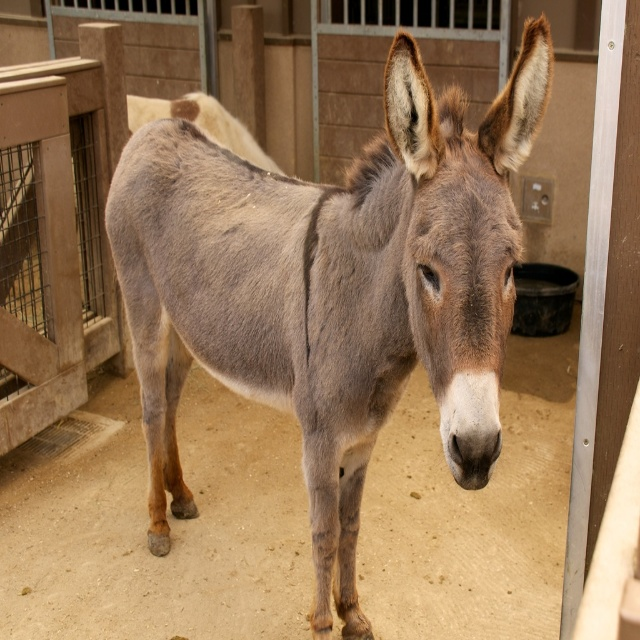Mule: (105, 21, 554, 639)
